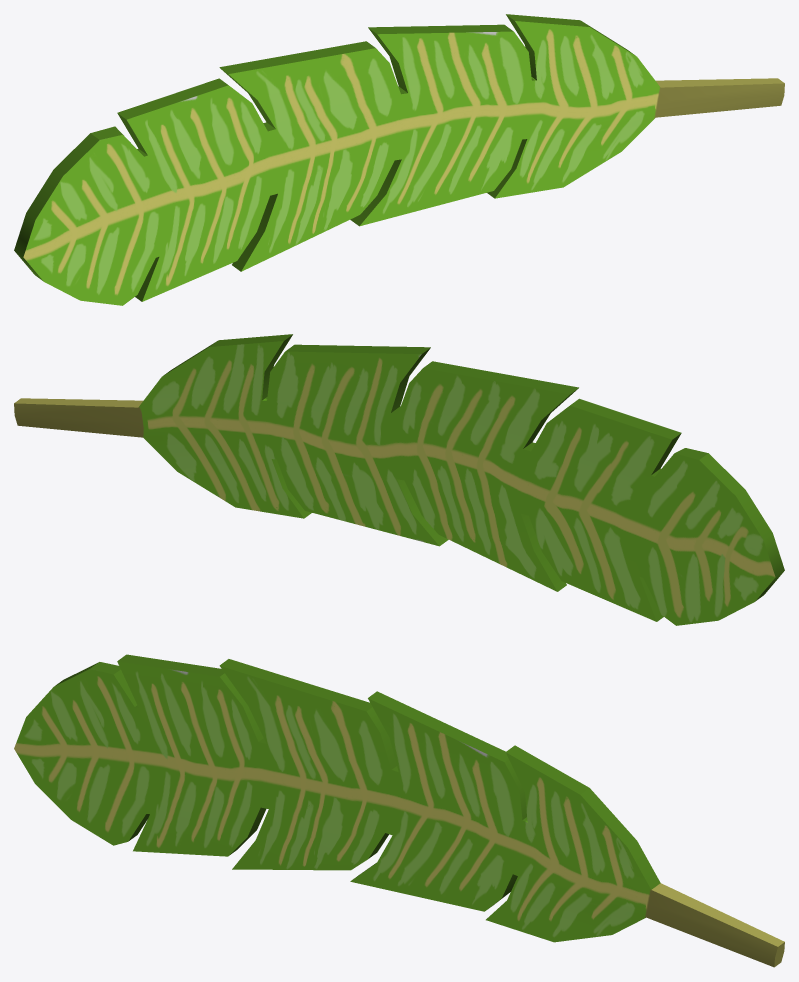
Rendered from 40x10 Banana Leaf.fbx.
The picture shows the model from 3 angles, top to bottom: view 1: azimuth 30°, elevation 25°; view 2: azimuth 150°, elevation 25°; view 3: azimuth 330°, elevation 25°; orthographic projection.
Parts seen in each view (by area): view 1: pCube1; view 2: pCube1; view 3: pCube1.
Part boxes in pixels (x1=…): pCube1: x1=14, y1=14, x2=784, y2=305; pCube1: x1=14, y1=334, x2=784, y2=625; pCube1: x1=14, y1=654, x2=784, y2=967.
Bounding box in the file's own units: 39.7 × 10.47 × 0.8678.
Materials: 1 (1 with a texture image).
